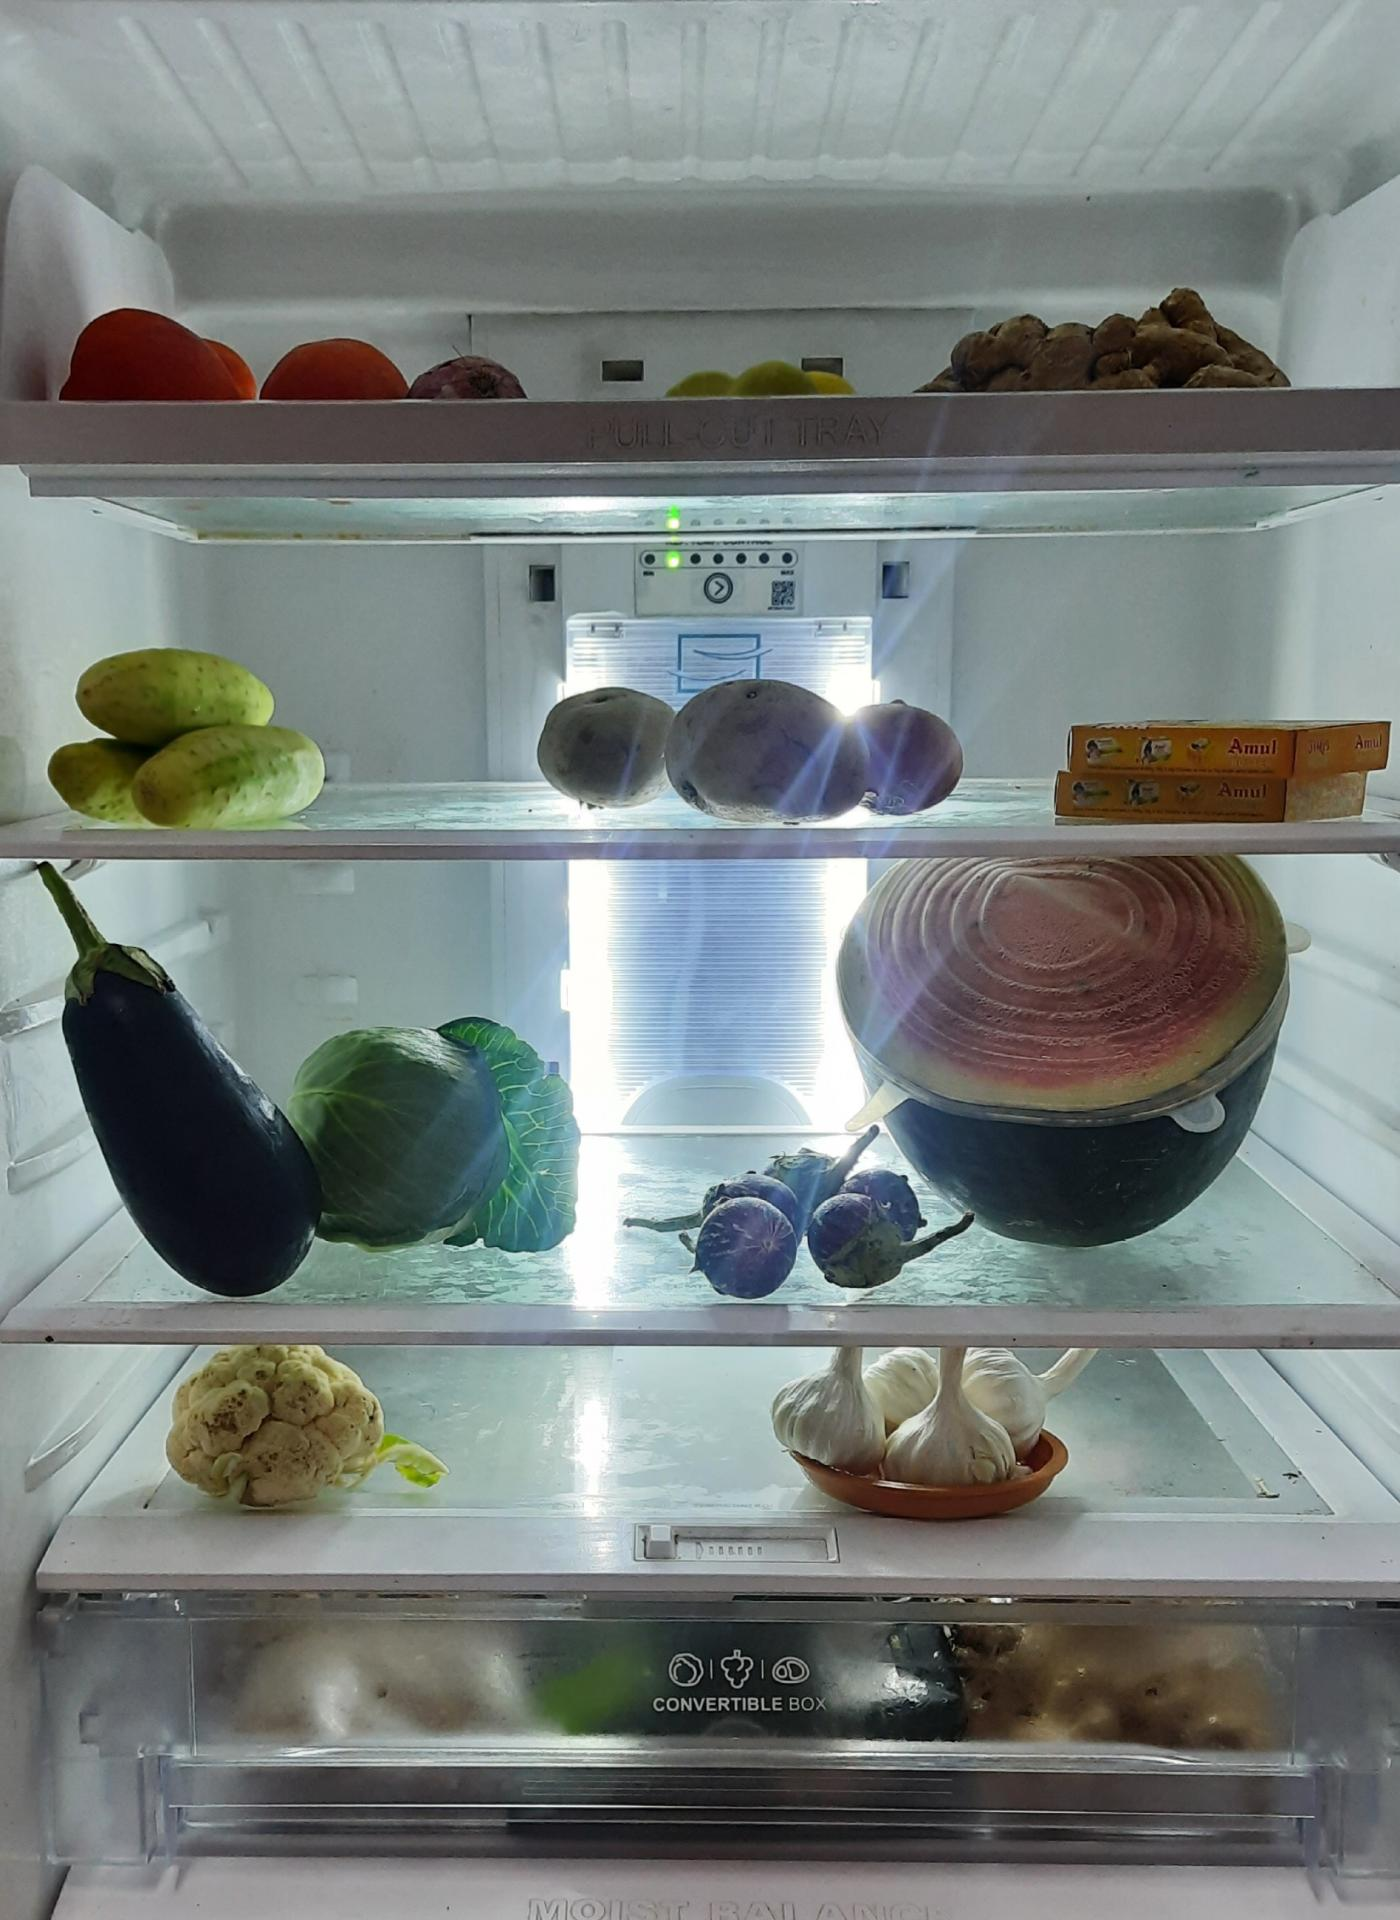brinjal: (28, 875, 312, 1310), (681, 1149, 974, 1291)
butter: (1057, 719, 1400, 823)
cabbage: (282, 1021, 580, 1255)
cauliflower: (158, 1346, 434, 1520)
cucumber: (54, 631, 338, 824)
garlic: (774, 1343, 1069, 1513)
ginger: (918, 283, 1312, 395)
lemon: (665, 359, 862, 395)
onion: (419, 347, 529, 397)
potato: (532, 678, 968, 827)
tomato: (61, 298, 412, 397)
watermelon: (824, 848, 1291, 1234)
